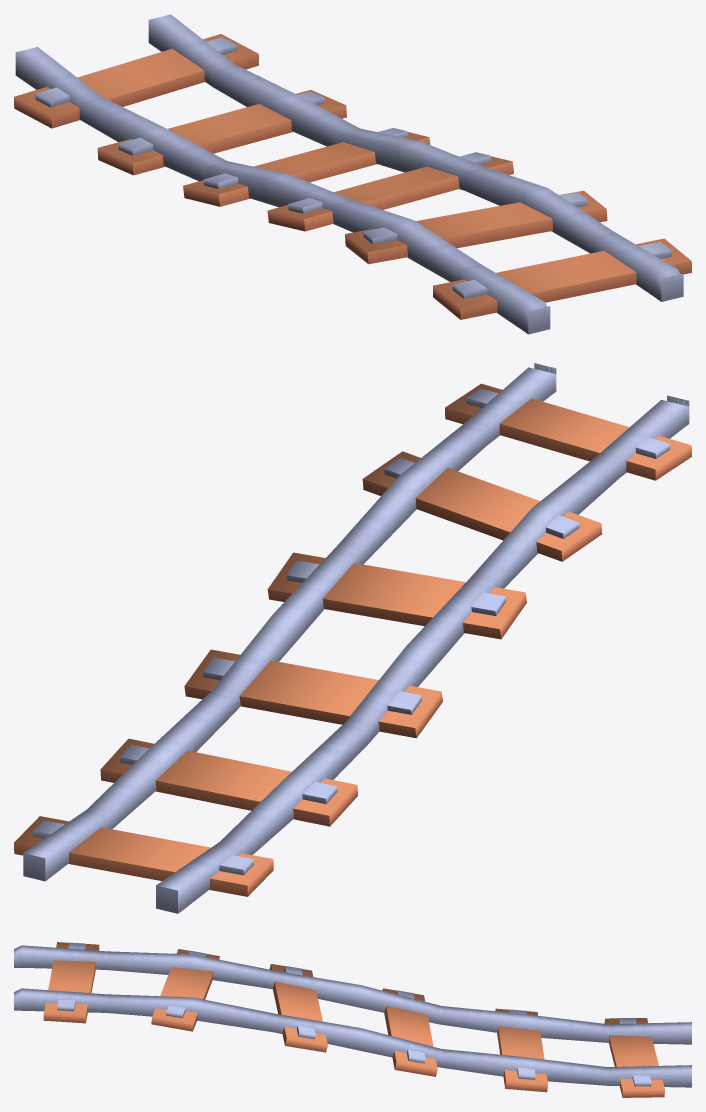
File: railroad-damaged-straight-hill-complete-half.glb
3 renders of one model, top to bottom at view 1: azimuth 30°, elevation 25°; view 2: azimuth 150°, elevation 25°; view 3: azimuth 270°, elevation 25°, orthographic. The views are drawn at different scales.
Visible parts, largest first — view 1: railroad-damaged-straight-hill-complete-half; view 2: railroad-damaged-straight-hill-complete-half; view 3: railroad-damaged-straight-hill-complete-half.
Part boxes in pixels (x1,y1,x2,y2): railroad-damaged-straight-hill-complete-half: [14, 14, 691, 334]; railroad-damaged-straight-hill-complete-half: [14, 363, 691, 913]; railroad-damaged-straight-hill-complete-half: [14, 942, 691, 1097].
Bounding box in the file's own units: 1.03 × 0.6006 × 4.
1 material, 1 textured.
